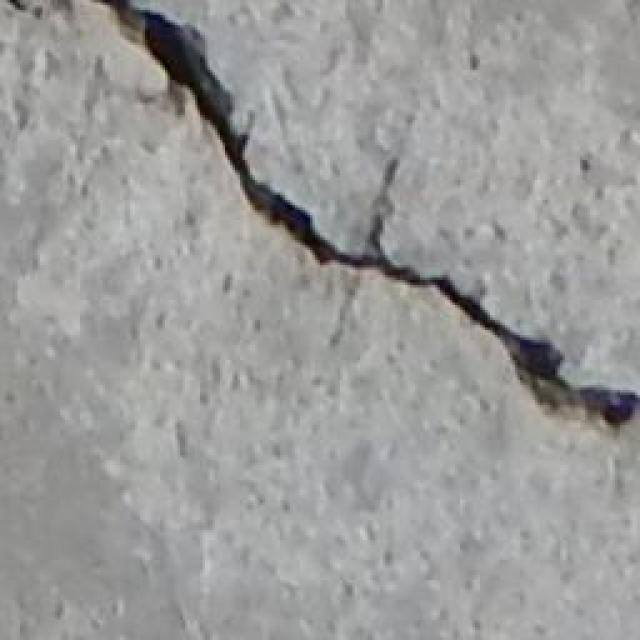concrete-crack: (78, 0, 640, 435)
